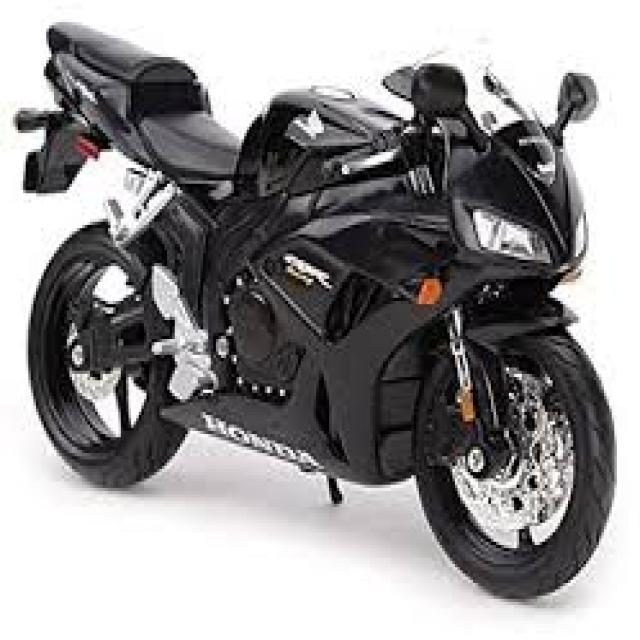Bike: (29, 33, 629, 608)
